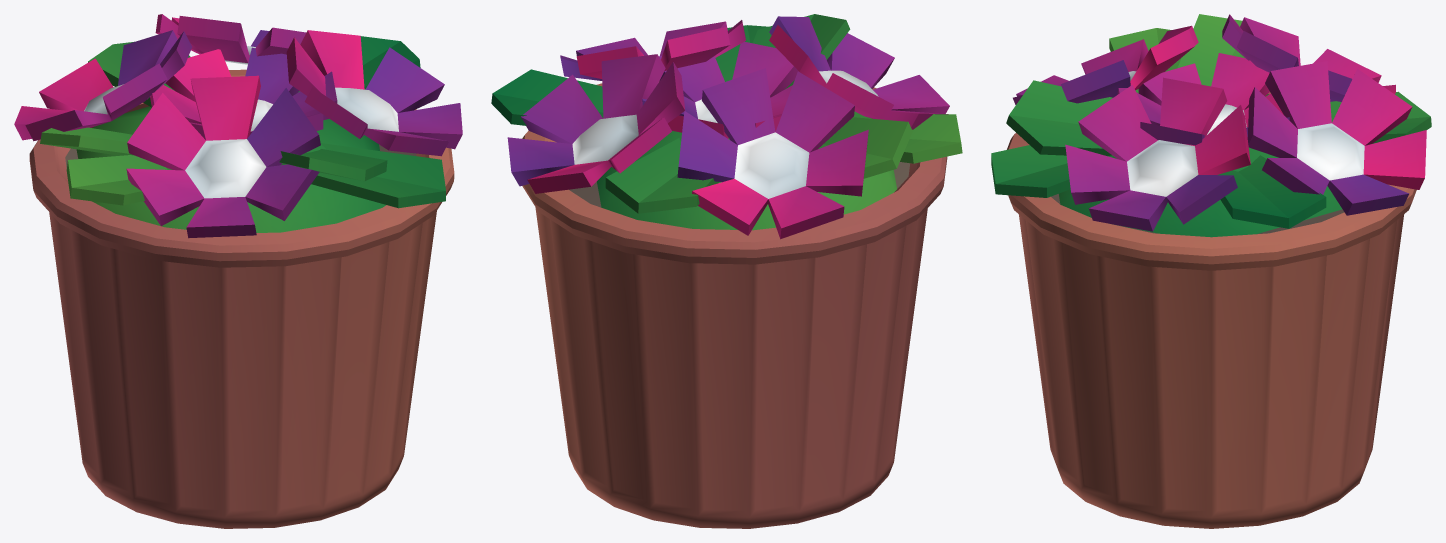
Rendered from OrnateFlowerPotPurple.fbx.
3 views of the same model, side by side, from view 1: azimuth 30°, elevation 25°; view 2: azimuth 150°, elevation 25°; view 3: azimuth 270°, elevation 25° (orthographic). The views are drawn at different scales.
Parts seen in each view (by area): view 1: OrnateFlowerPotPurple; view 2: OrnateFlowerPotPurple; view 3: OrnateFlowerPotPurple.
Part boxes in pixels (x1=…): OrnateFlowerPotPurple: x1=14, y1=14, x2=462, y2=528; OrnateFlowerPotPurple: x1=491, y1=14, x2=962, y2=528; OrnateFlowerPotPurple: x1=991, y1=14, x2=1431, y2=528.
Bounding box in the file's own units: 0.3718 × 0.3685 × 0.36.
